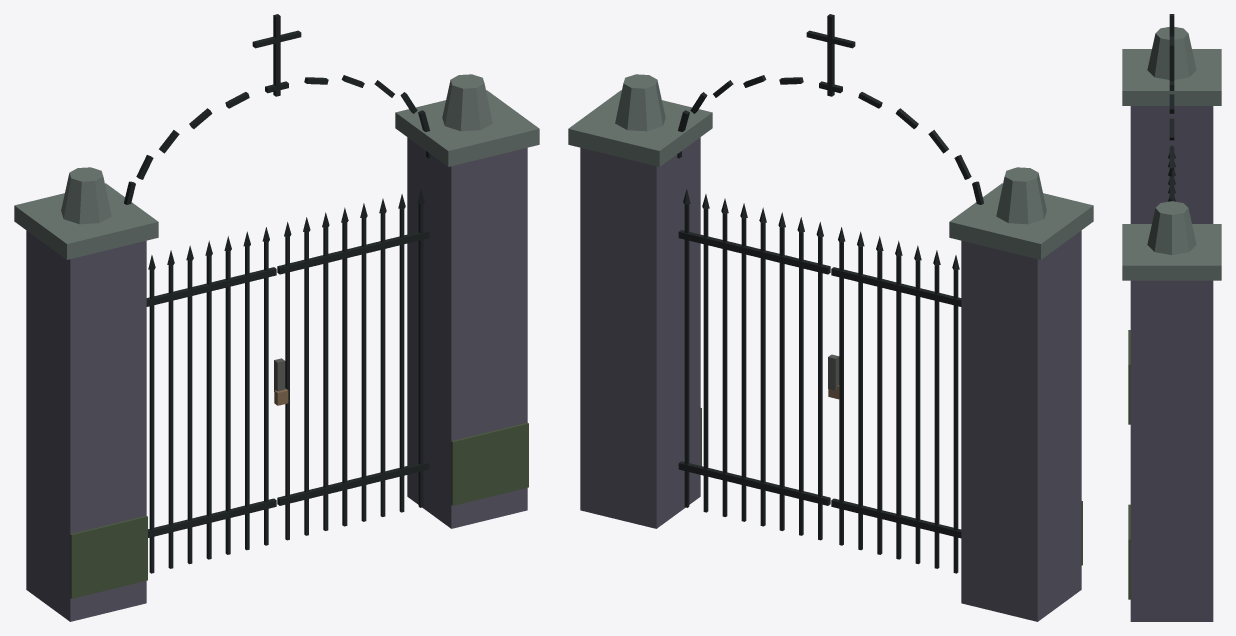
Rendered from poarta_cimitir.glb.
The picture shows the model from 3 angles, left to right: view 1: azimuth 30°, elevation 25°; view 2: azimuth 150°, elevation 25°; view 3: azimuth 270°, elevation 25°; orthographic projection. The views are drawn at different scales.
Visible parts, largest first — view 1: Poarta; view 2: Poarta; view 3: Poarta.
Part boxes in pixels (x1,y1,x2,y2): Poarta: (14,14,539,621); Poarta: (568,14,1093,621); Poarta: (1122,14,1221,621).
Size of the model in its own units: 3.1 by 3.35 by 0.6.
